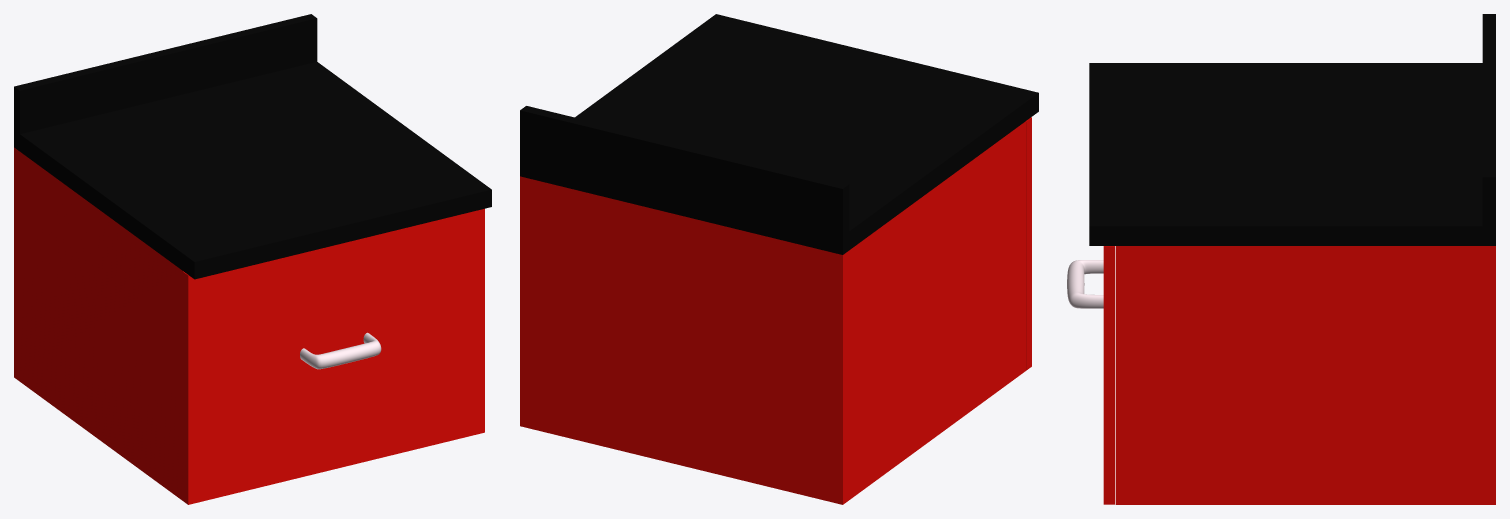
File: counter.fbx
The picture shows the model from 3 angles, left to right: view 1: azimuth 30°, elevation 25°; view 2: azimuth 150°, elevation 25°; view 3: azimuth 270°, elevation 25°; orthographic projection. The views are drawn at different scales.
Visible parts, largest first — view 1: Countertop1, Cabinet1_Door, Cabinet1, Handle; view 2: Cabinet1, Countertop1, Cabinet1_Door; view 3: Cabinet1, Countertop1, Cabinet1_Door, Handle.
Boxes of the visible parts, box(x1,y1,x2,y2) form: Countertop1: box(14, 14, 491, 279); Cabinet1_Door: box(183, 208, 484, 504); Cabinet1: box(14, 147, 183, 500); Handle: box(300, 332, 381, 369); Cabinet1: box(520, 121, 1025, 504); Countertop1: box(520, 14, 1038, 254); Cabinet1_Door: box(1026, 117, 1031, 370); Cabinet1: box(1115, 246, 1495, 504); Countertop1: box(1089, 14, 1495, 245); Cabinet1_Door: box(1103, 246, 1114, 504); Handle: box(1067, 260, 1103, 308).
Size of the model in its own units: 60 by 56.1 by 66.56.
